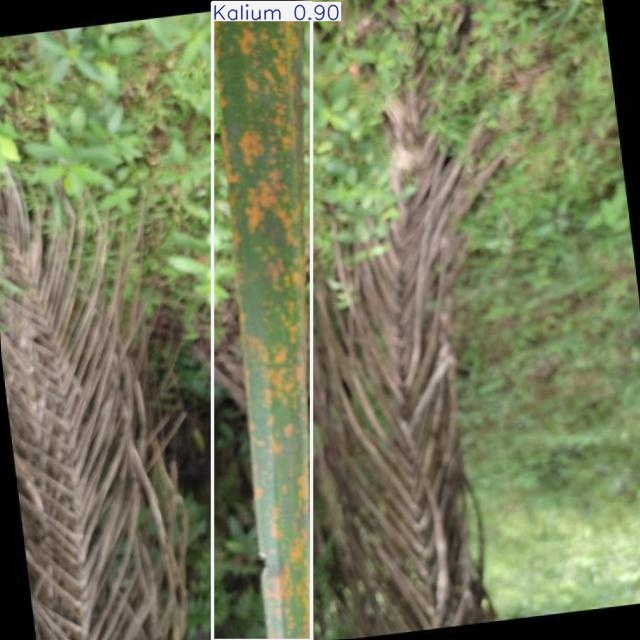Kalium: (212, 2, 312, 640)
